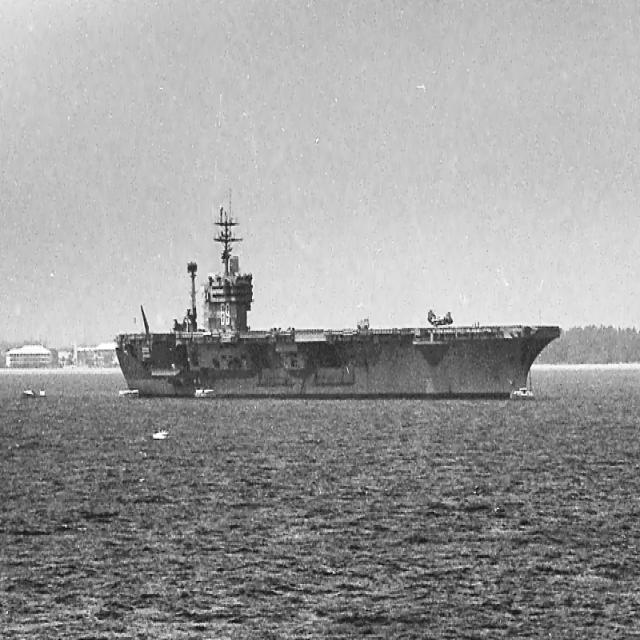Portanaves: (112, 194, 566, 402)
